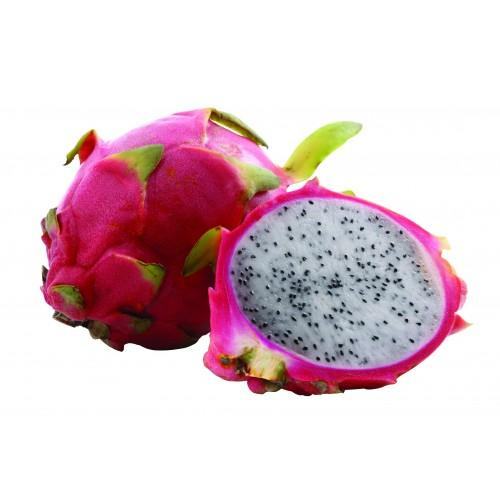dragon-fruit: (204, 177, 475, 409), (12, 101, 262, 352)
